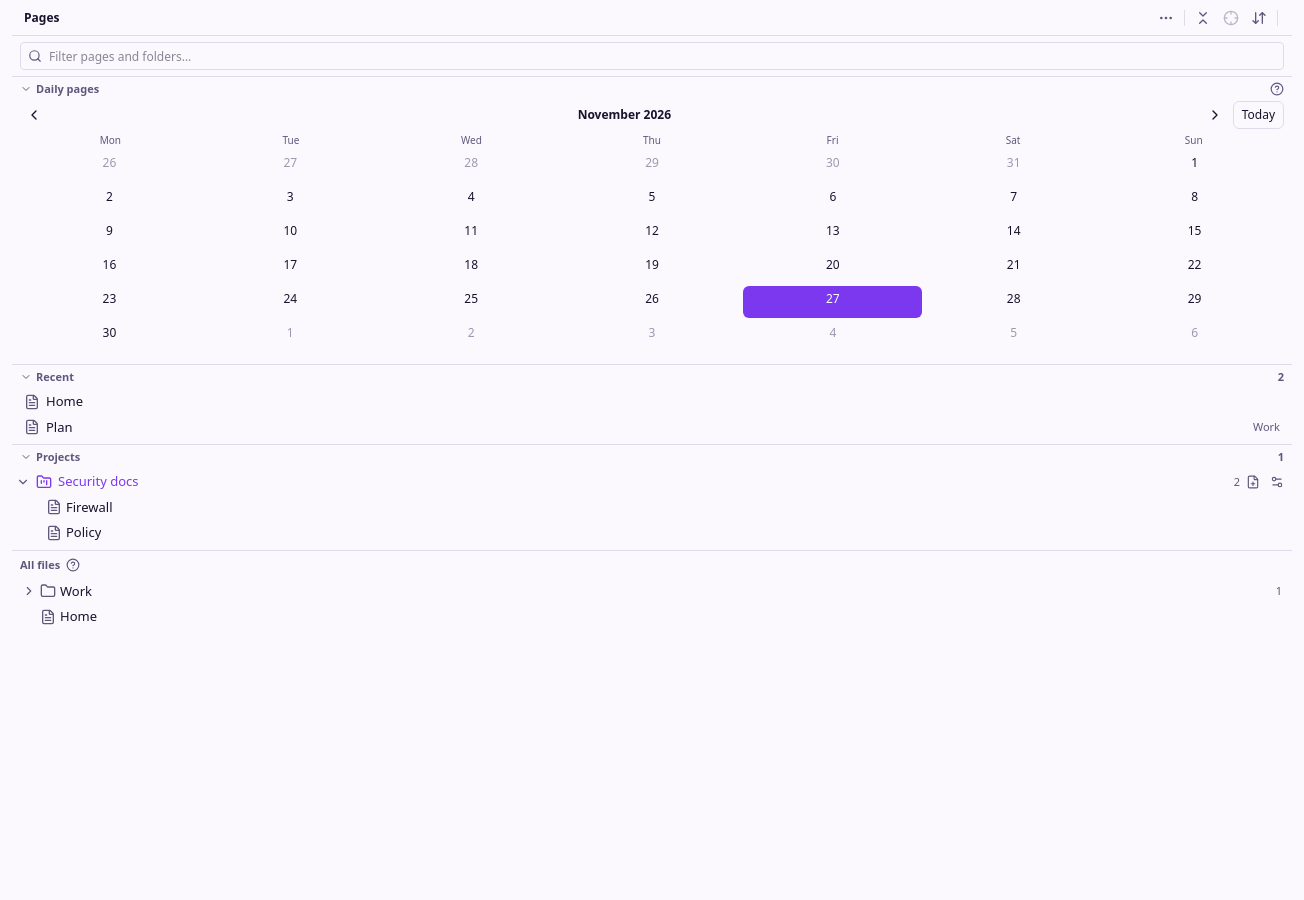
FilesPanel › selecting several items › Ctrl+click ticks items without opening them, and a plain click clears the ticks
Later steps or results of the test are not shown.
Click the list item with test id "tree-Home.md" at (68, 616), box [40,607,97,625]
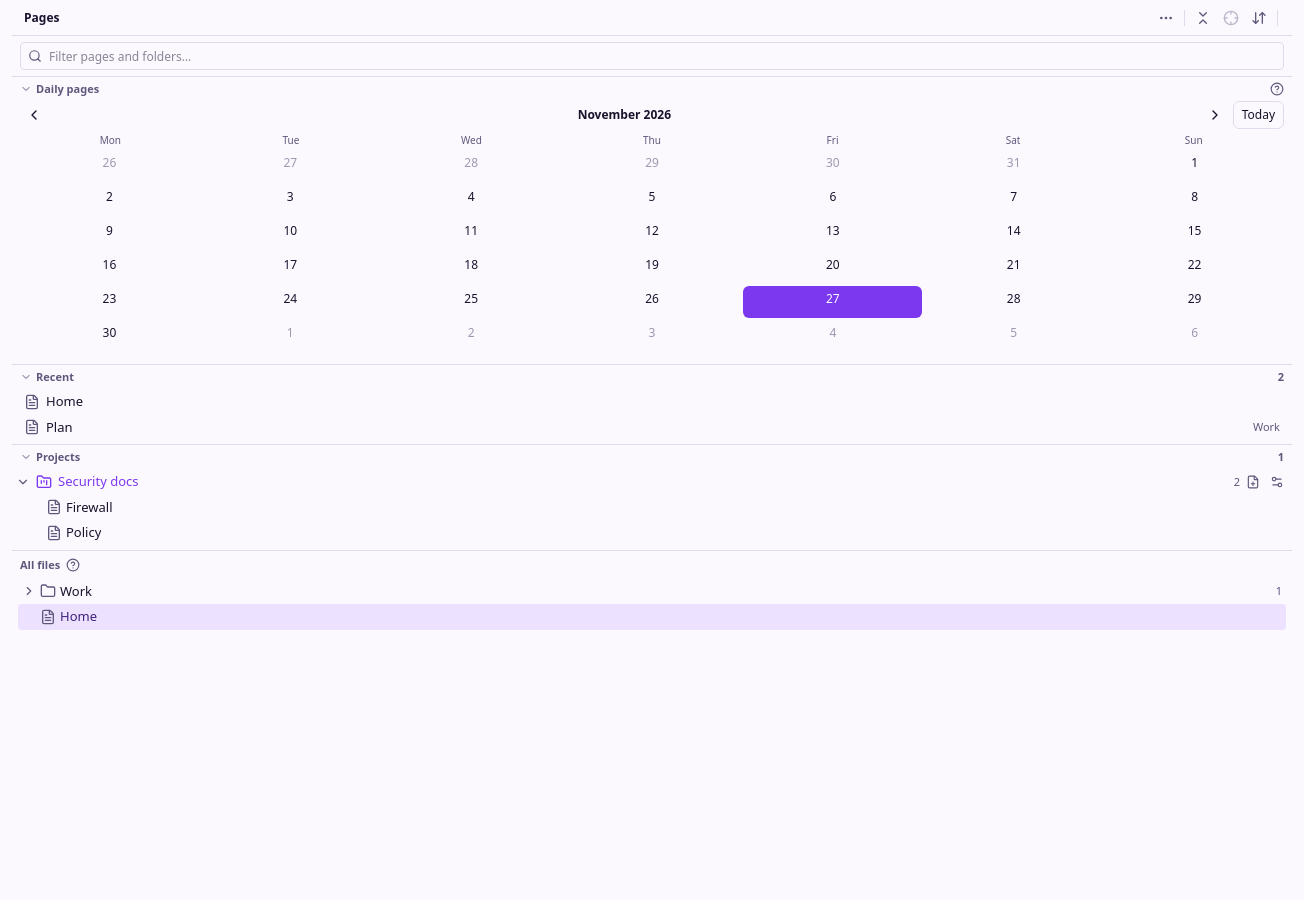
Click the list item with test id "tree-Work" at (76, 590), box [18,578,1286,604]
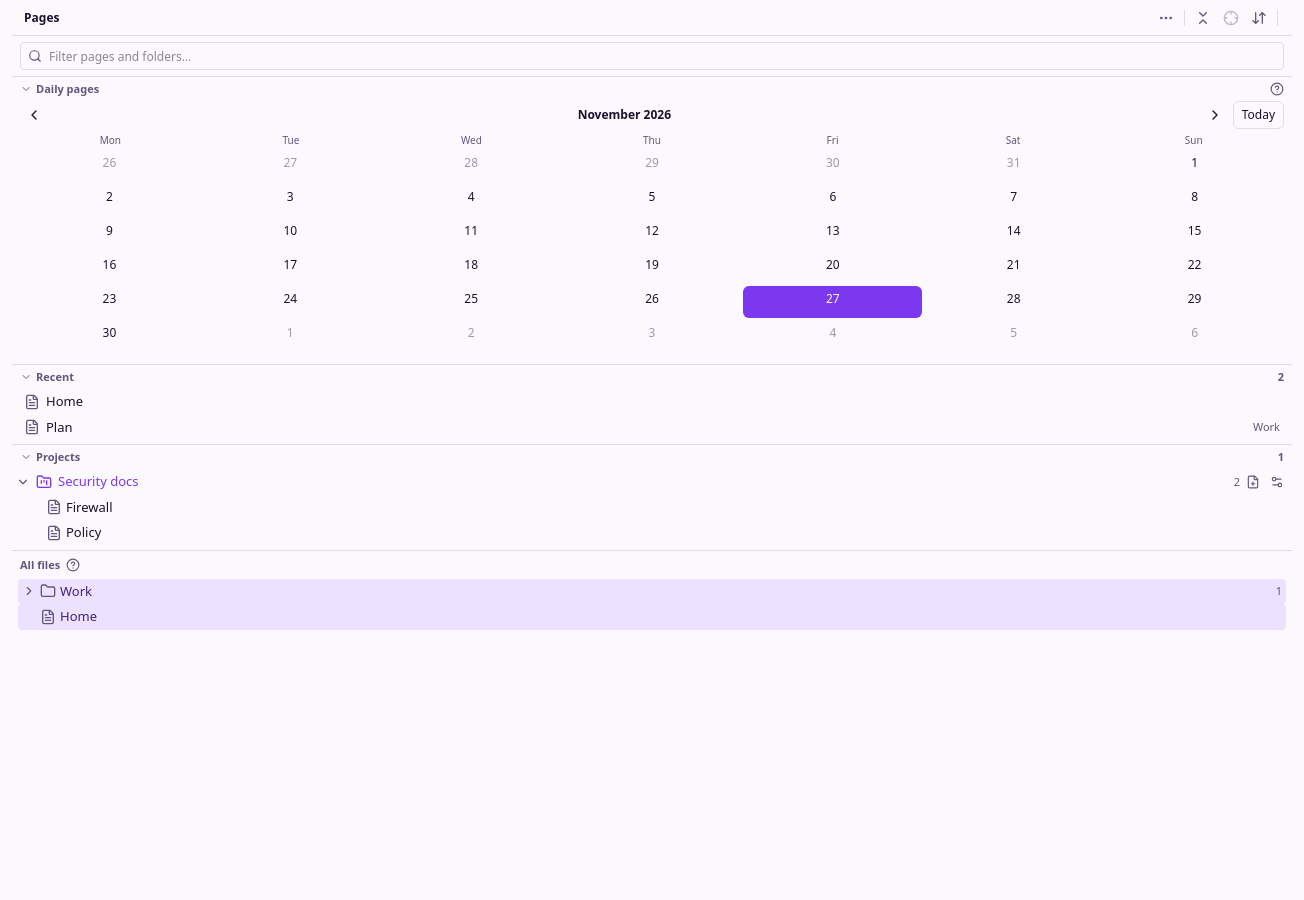
Check: the list item with test id "tree-Home.md" is selected, box [18,604,1286,630]
Check: the list item with test id "tree-Work" is selected, box [18,578,1286,604]
